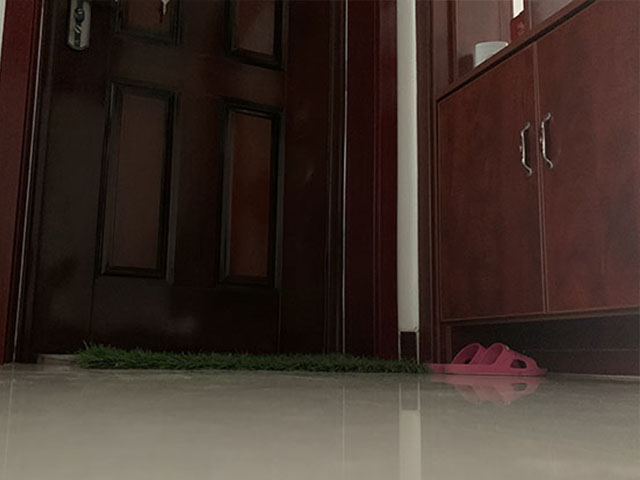cabinet: (432, 1, 640, 375)
carpet: (71, 340, 427, 371)
slippers: (438, 342, 548, 376)
